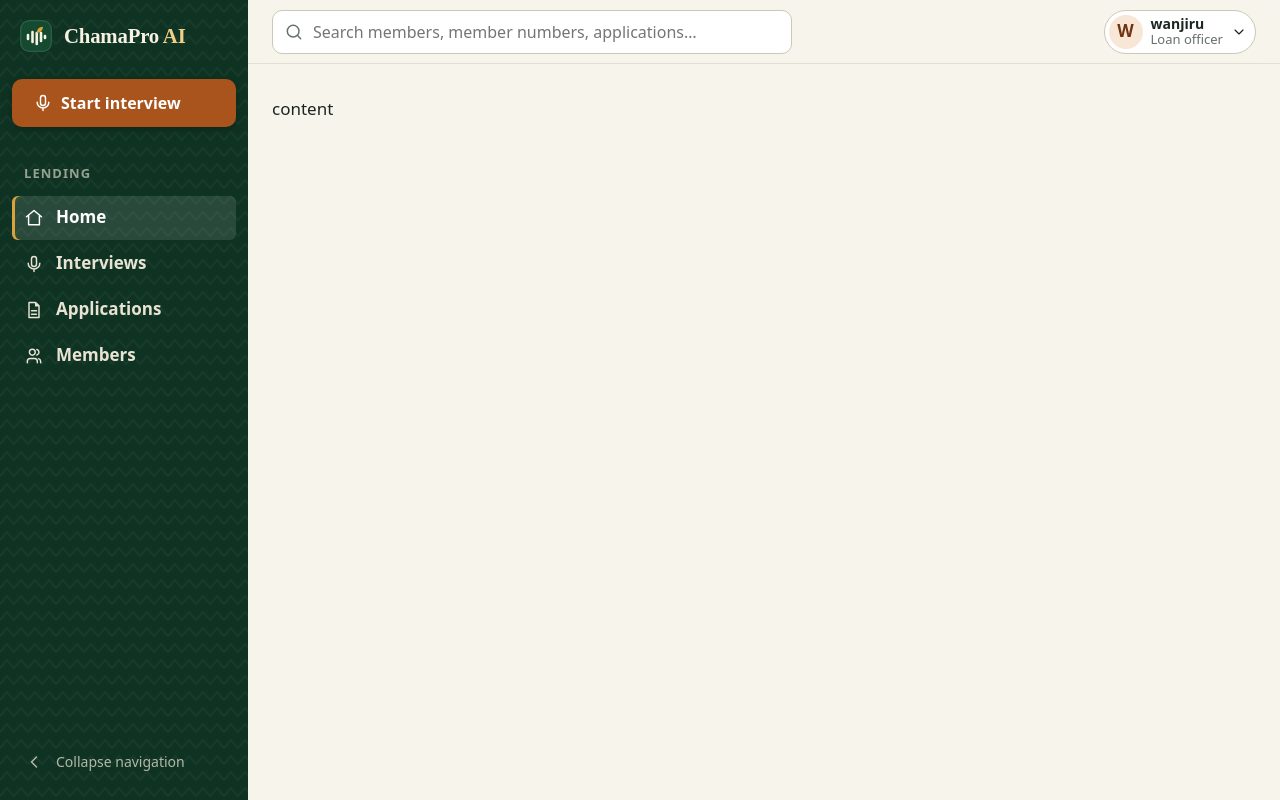
Test: staff layout › collapses the sidebar to icons, keeping every link named
Click the button "Collapse navigation".
click(124, 762)  # box [12,740,236,784]
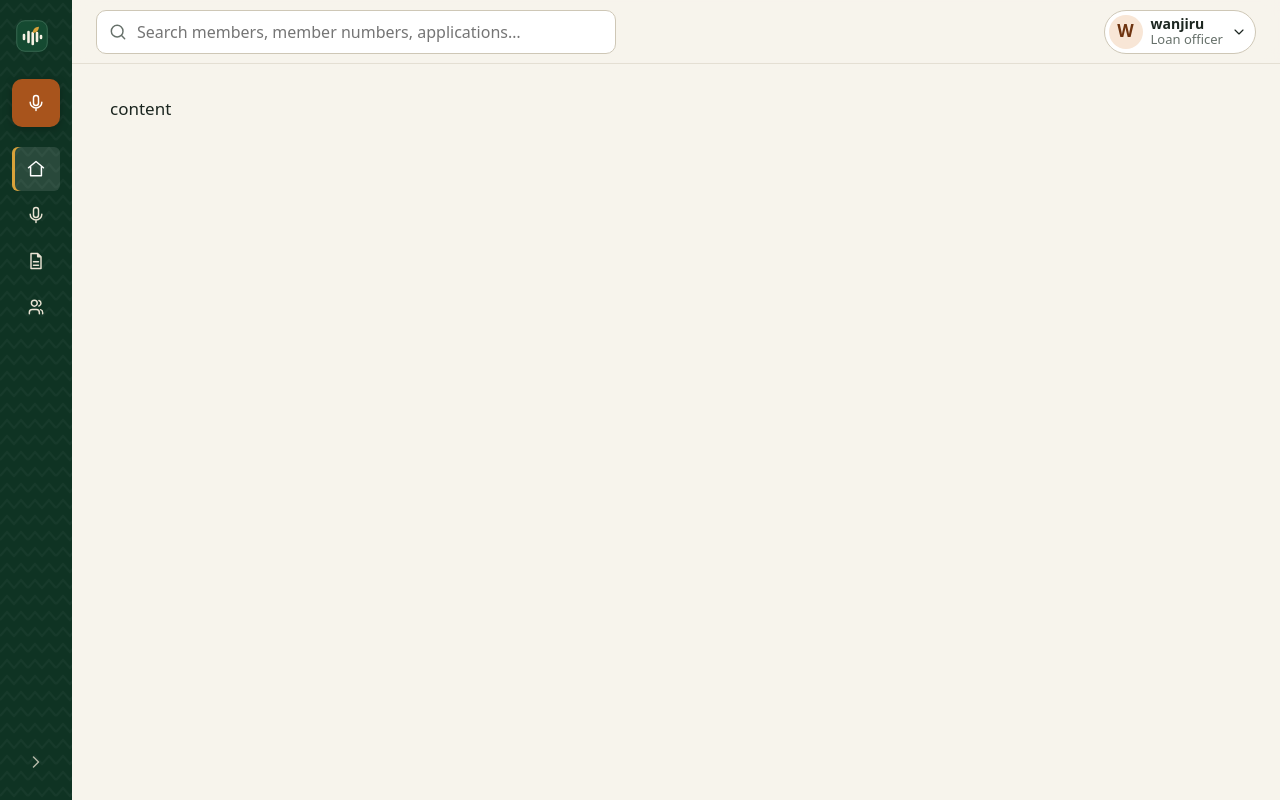
Expected: the link named "Applications" is shown, [12,239,60,283]
Expected: the button named "Expand navigation" is collapsed, [12,740,60,784]
